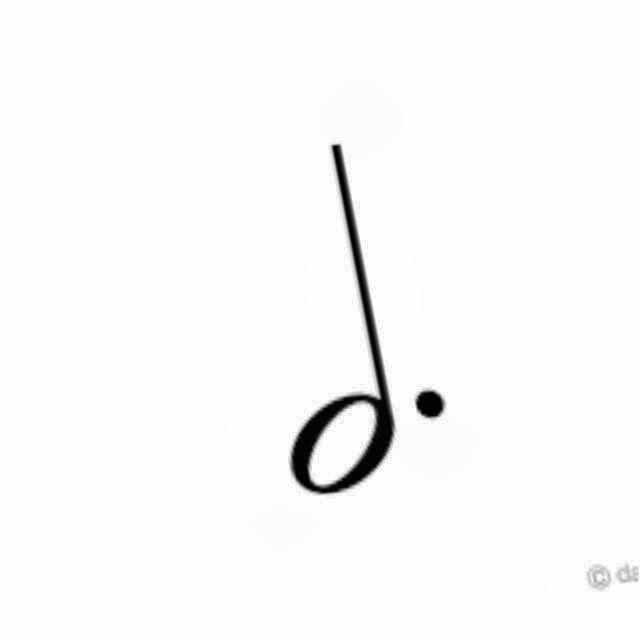Half-dot: (261, 132, 453, 504)
